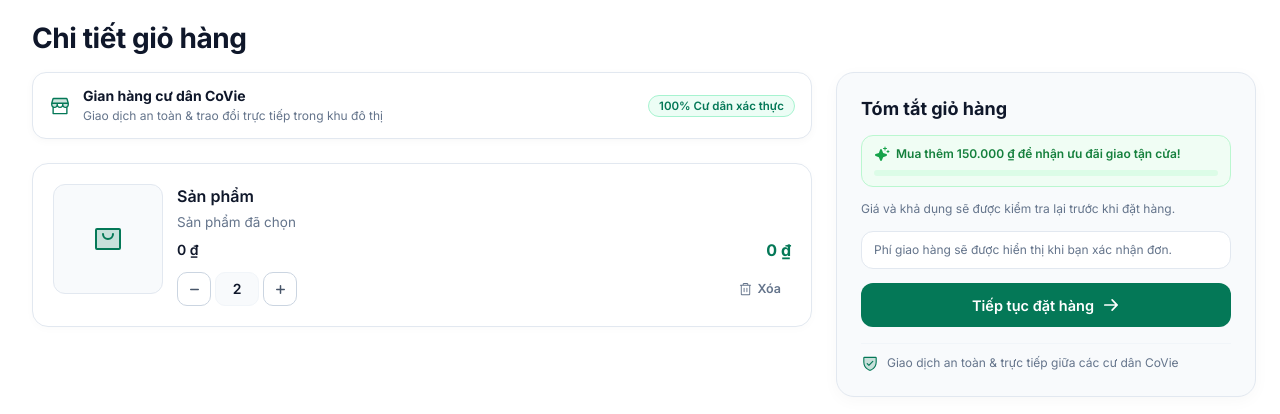
it: cart detail › requires login after command returns401 and hides stale cart actions
Click the button named "Tăng số lượng": (280, 289) top-left (263, 272), bottom-right (297, 306)
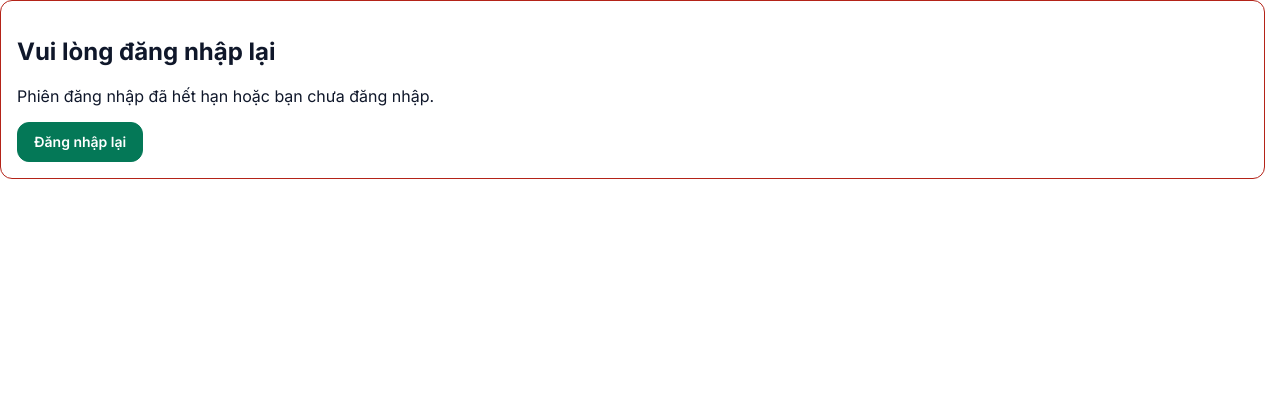
Check: the link "Tiếp tục đặt hàng" is gone
